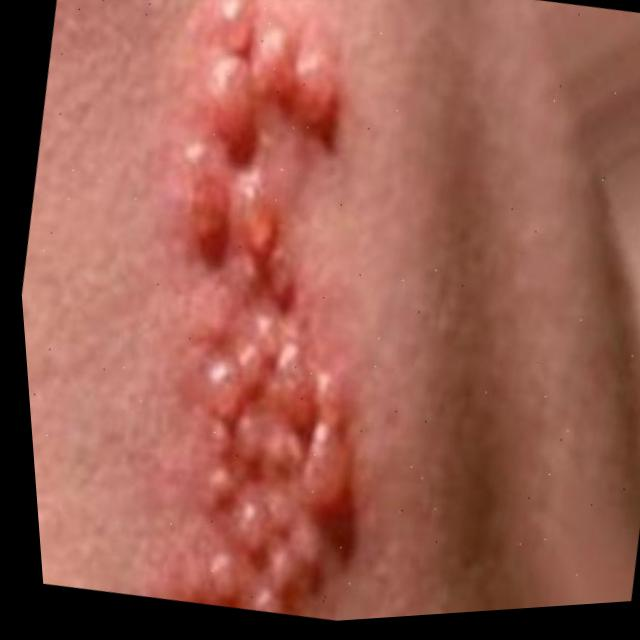Shingles: (67, 0, 464, 636)
